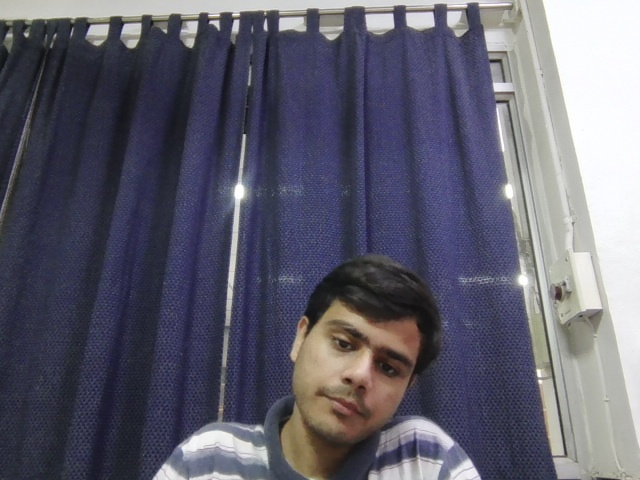face: (292, 254, 435, 443)
